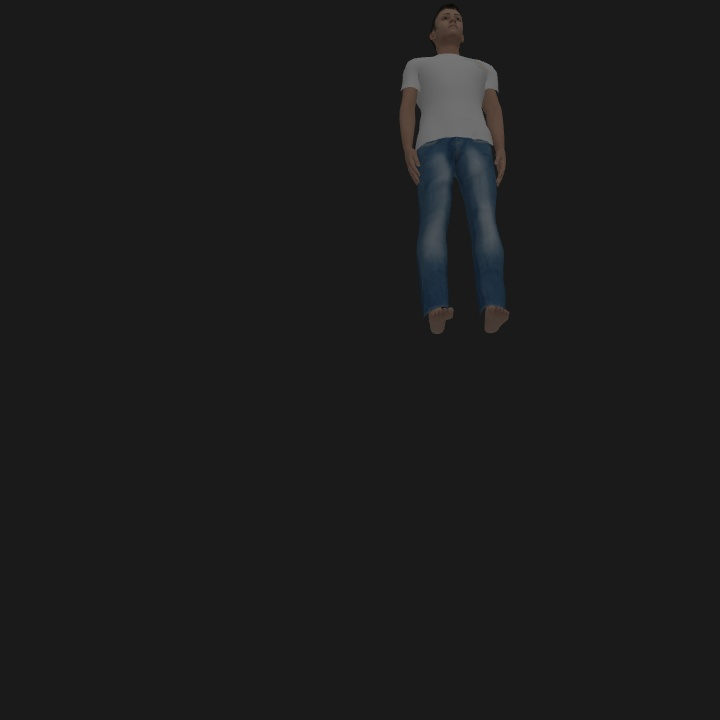victim: (395, 2, 510, 333)
